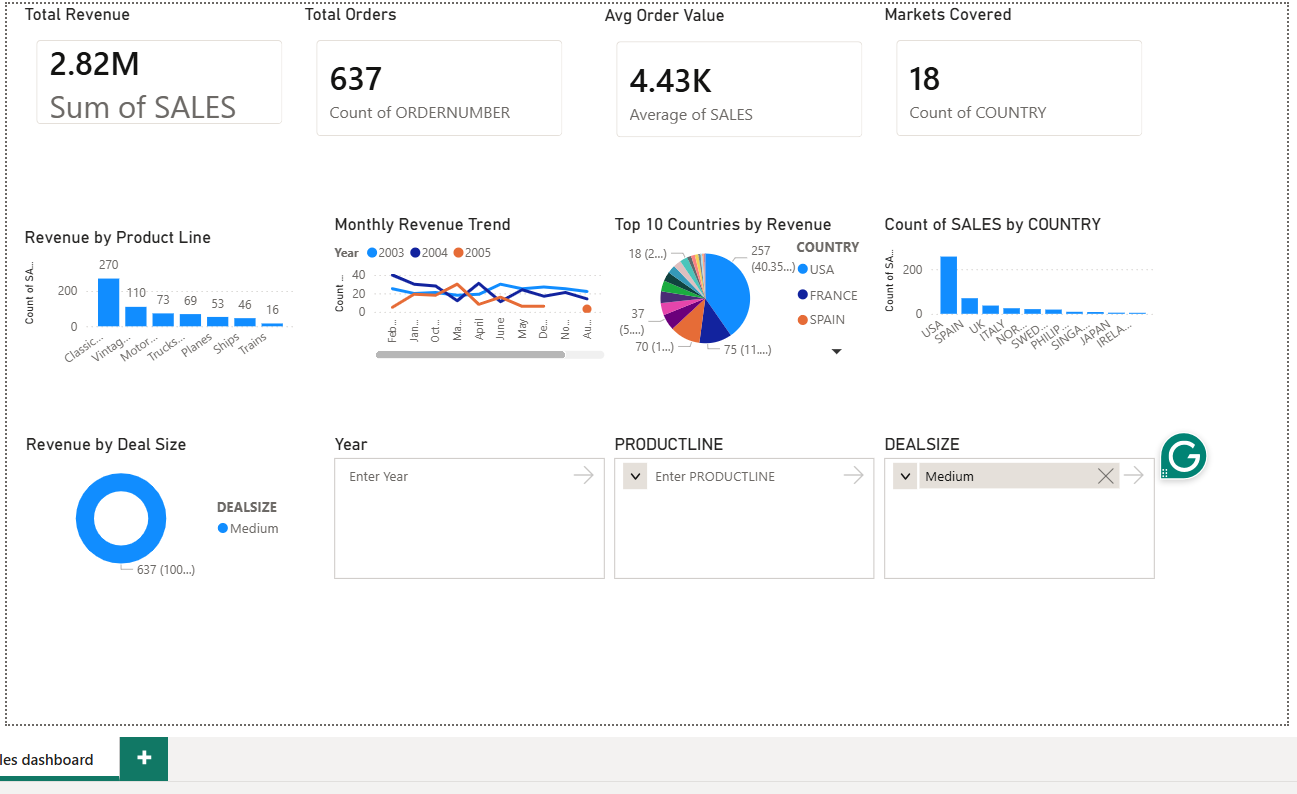

The dashboard page shown, as its layout file describes it:
{"tool":"powerbi","page":{"name":"Sales dashboard","canvas":[1280,720],"ordinal":0},"visuals":[{"type":"cardVisual","title":"Total Revenue","fields":{"Data":["Sum(sales_data_sample.SALES)"]},"box":[12.5,0,280,137.5],"z":0},{"type":"cardVisual","title":"Total Orders","fields":{"Data":["CountNonNull(sales_data_sample.ORDERNUMBER)"]},"box":[292.9,0,280,150],"z":1},{"type":"cardVisual","title":"Avg Order Value","fields":{"Data":["Avg(sales_data_sample.SALES)"]},"box":[592.9,1.4,280,150],"z":2},{"type":"cardVisual","title":"Markets Covered","fields":{"Data":["Count(sales_data_sample.COUNTRY)"]},"box":[872.9,0,280,150],"z":3},{"type":"clusteredColumnChart","title":"Revenue by Product Line","fields":{"Y":["CountNonNull(sales_data_sample.SALES)"],"Category":["sales_data_sample.PRODUCTLINE"]},"box":[13,222,280,150],"z":4},{"type":"lineChart","title":"Monthly Revenue Trend","fields":{"Category":["sales_data_sample.Month Name"],"Y":["CountNonNull(sales_data_sample.SALES)"],"Series":["sales_data_sample.Year"]},"box":[322.9,210,280,150],"z":5},{"type":"pieChart","title":"Top 10 Countries by Revenue","fields":{"Y":["CountNonNull(sales_data_sample.SALES)"],"Category":["sales_data_sample.COUNTRY"]},"box":[603,210,270,150],"z":6},{"type":"clusteredColumnChart","fields":{"Category":["sales_data_sample.COUNTRY"],"Y":["CountNonNull(sales_data_sample.SALES)"]},"box":[872.9,210,280,150],"z":7},{"type":"donutChart","title":"Revenue by Deal Size","fields":{"Category":["sales_data_sample.DEALSIZE"],"Y":["CountNonNull(sales_data_sample.SALES)"]},"box":[13.3,430,280,150],"z":8},{"type":"textSlicer","fields":{"Values":["sales_data_sample.Year"]},"box":[323,430,280,150],"z":9},{"type":"textSlicer","fields":{"Values":["sales_data_sample.PRODUCTLINE"]},"box":[603,430,270,150],"z":10},{"type":"textSlicer","fields":{"Values":["sales_data_sample.DEALSIZE"]},"box":[873,430,280,150],"z":11},{"type":"actionButton","box":[0,0,100,40],"z":12}]}

Visuals, with their boxes on the page's 1280x720 design canvas (x1, y1, x2, y2). These are canvas units, not pixel positions in the 1297x794 screenshot, which may show the page scaled, cropped or inside an application window:
"Total Revenue" cardVisual: bbox=(12, 0, 292, 138)
"Total Orders" cardVisual: bbox=(293, 0, 573, 150)
"Avg Order Value" cardVisual: bbox=(593, 1, 873, 151)
"Markets Covered" cardVisual: bbox=(873, 0, 1153, 150)
"Revenue by Product Line" clusteredColumnChart: bbox=(13, 222, 293, 372)
"Monthly Revenue Trend" lineChart: bbox=(323, 210, 603, 360)
"Top 10 Countries by Revenue" pieChart: bbox=(603, 210, 873, 360)
clusteredColumnChart - sales_data_sample.COUNTRY x CountNonNull(sales_data_sample.SALES): bbox=(873, 210, 1153, 360)
"Revenue by Deal Size" donutChart: bbox=(13, 430, 293, 580)
textSlicer - sales_data_sample.Year: bbox=(323, 430, 603, 580)
textSlicer - sales_data_sample.PRODUCTLINE: bbox=(603, 430, 873, 580)
textSlicer - sales_data_sample.DEALSIZE: bbox=(873, 430, 1153, 580)
actionButton: bbox=(0, 0, 100, 40)
